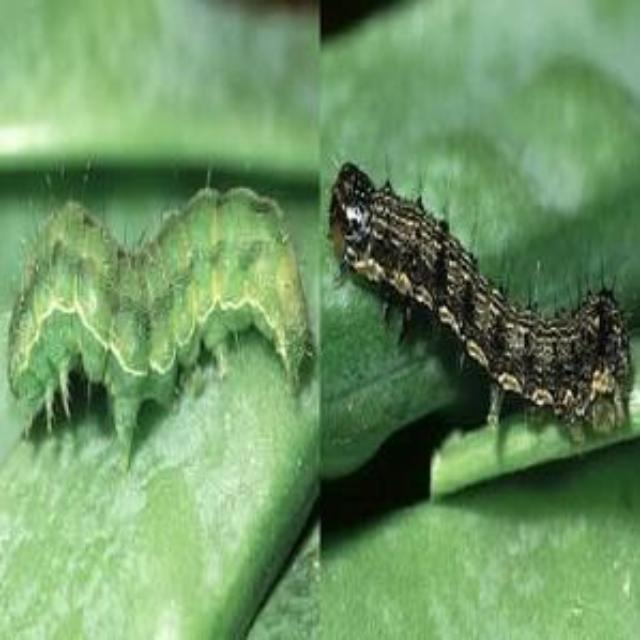Cotton bollworm: (321, 136, 637, 502), (1, 144, 322, 482)
